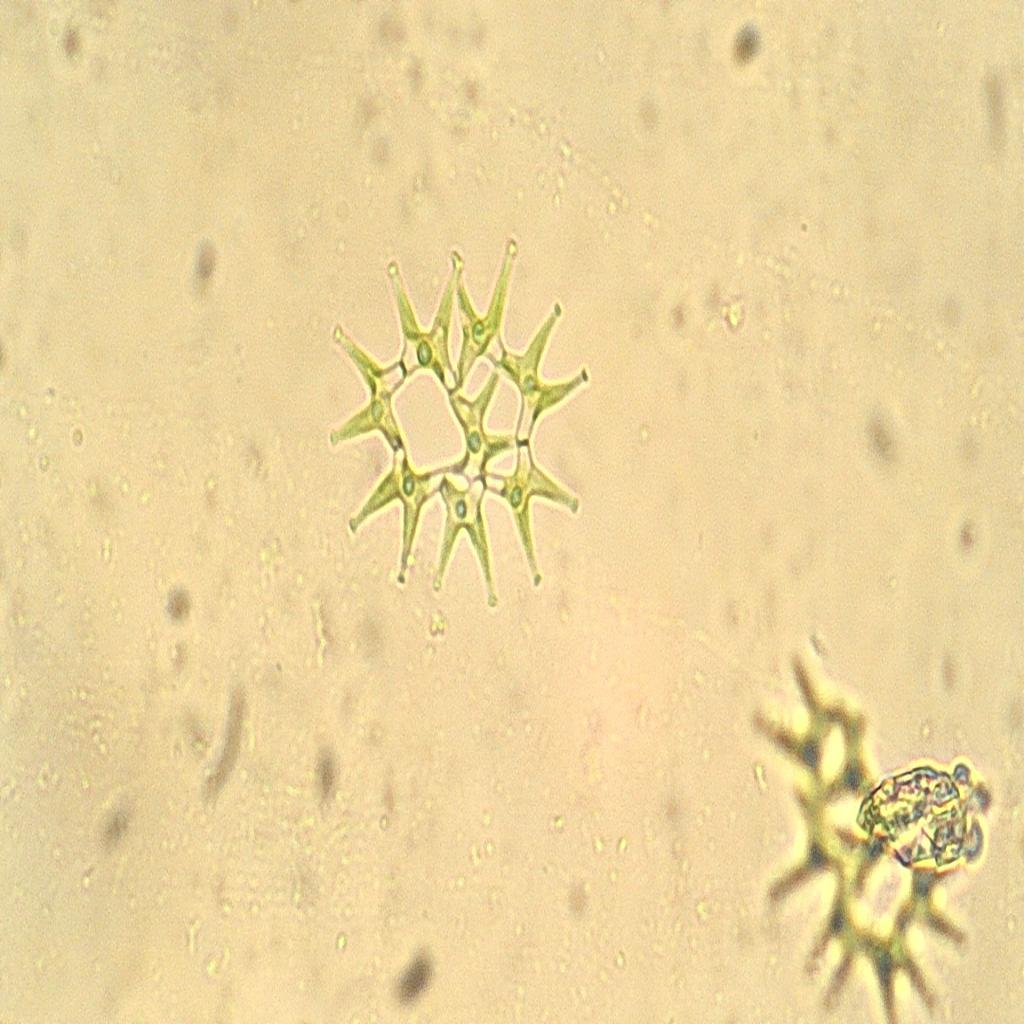Pediastrum_CFI: (318, 228, 598, 608)
